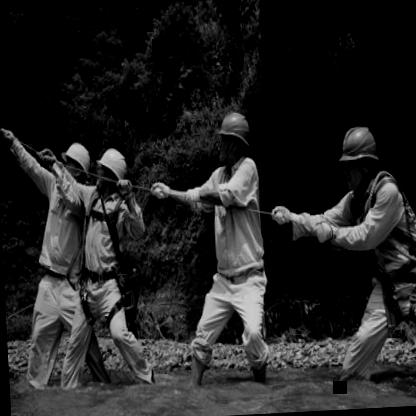helmet: (334, 119, 383, 198), (212, 108, 254, 167), (94, 144, 129, 199), (62, 140, 94, 183)
